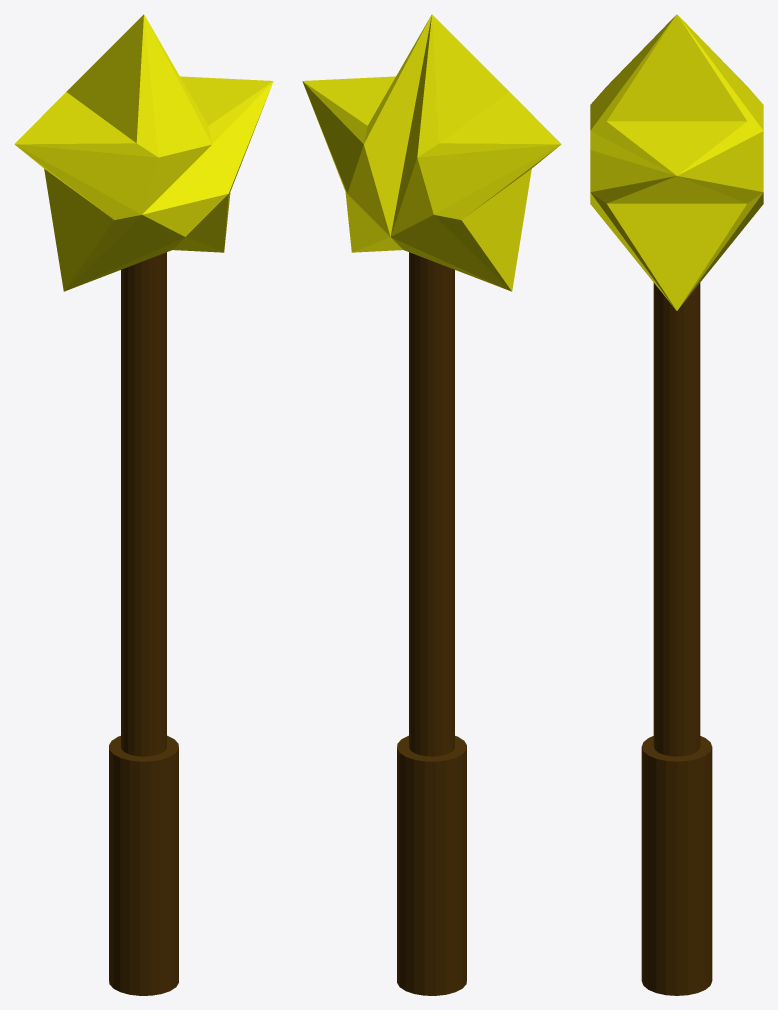
The model's file is Wand.fbx.
3 views of the same model, side by side, from view 1: azimuth 30°, elevation 25°; view 2: azimuth 150°, elevation 25°; view 3: azimuth 270°, elevation 25° (orthographic).
Visible parts, largest first — view 1: polySurface5; view 2: polySurface5; view 3: polySurface5.
Part boxes in pixels (<box>): polySurface5: <box>14,14,273,995</box>; polySurface5: <box>302,14,561,995</box>; polySurface5: <box>590,14,763,995</box>.
Size of the model in its own units: 1.9 by 6.77 by 1.1.
